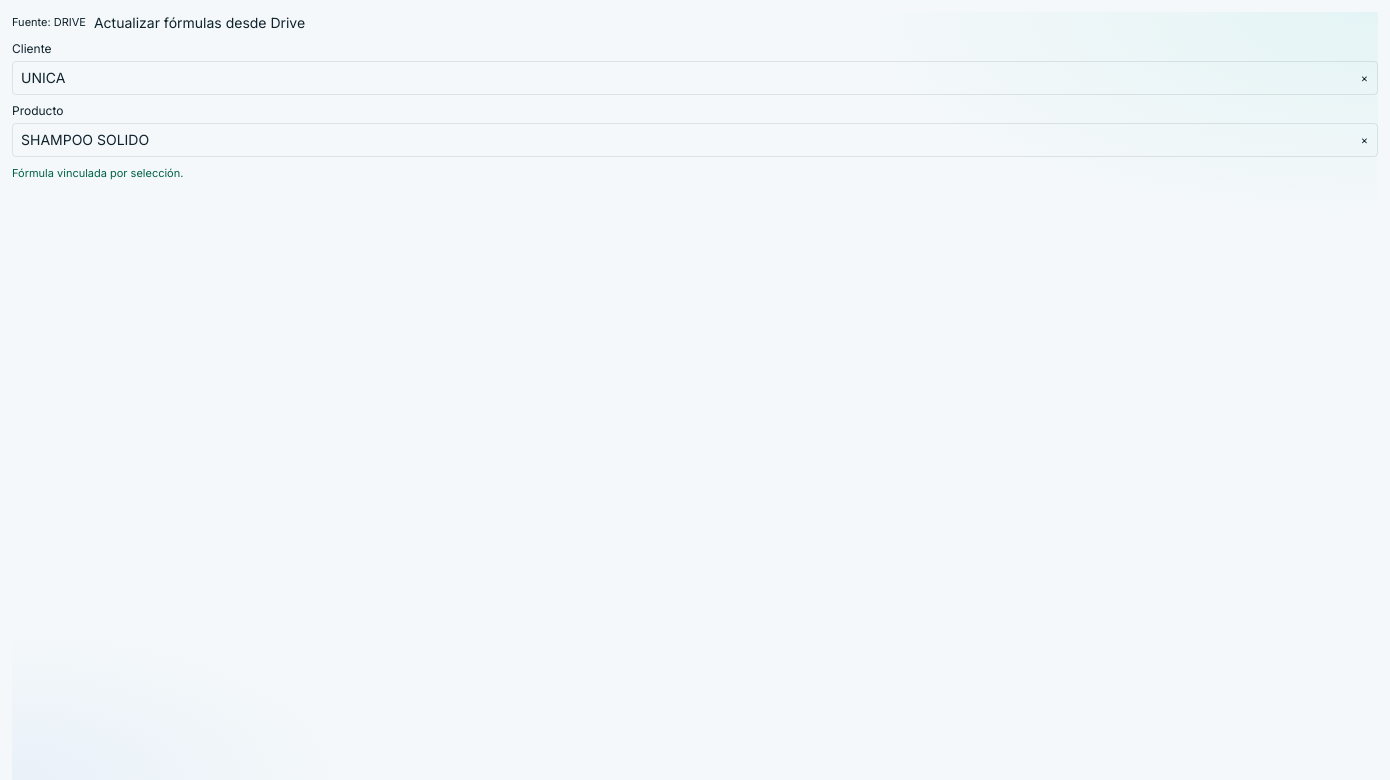
Test: FormulaClientProductPickers query vs selected › cambiar cliente seleccionado limpia producto una vez
Check: the dropdown with test id "oe-product-combobox-input" holds "SHAMPOO SOLIDO", box [12, 123, 1378, 157]
Replace the text in the dropdown with test id "oe-client-combobox-input" with "a": (695, 78) [12, 61, 1378, 95]
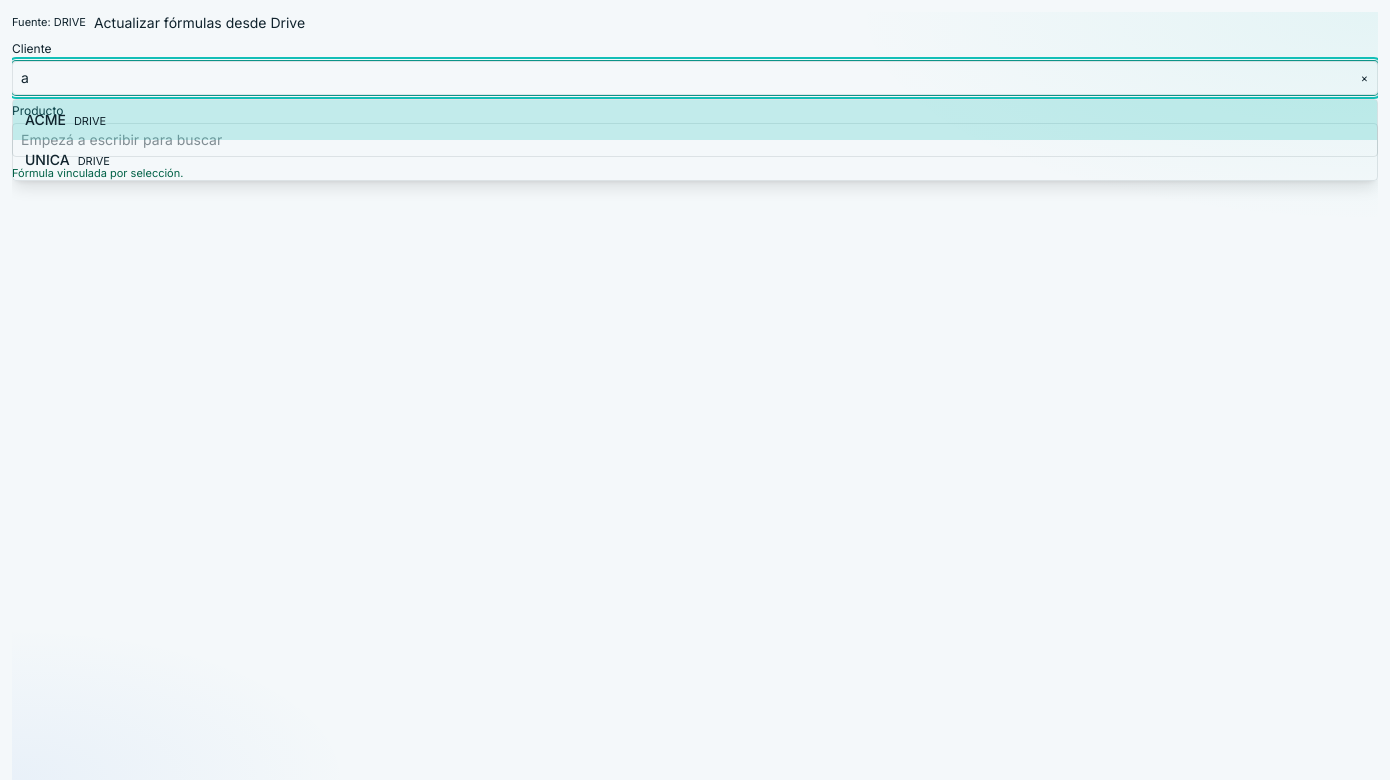
Check: the text "ACME" is shown
Click the text "ACME": click(45, 120) [25, 111, 66, 128]
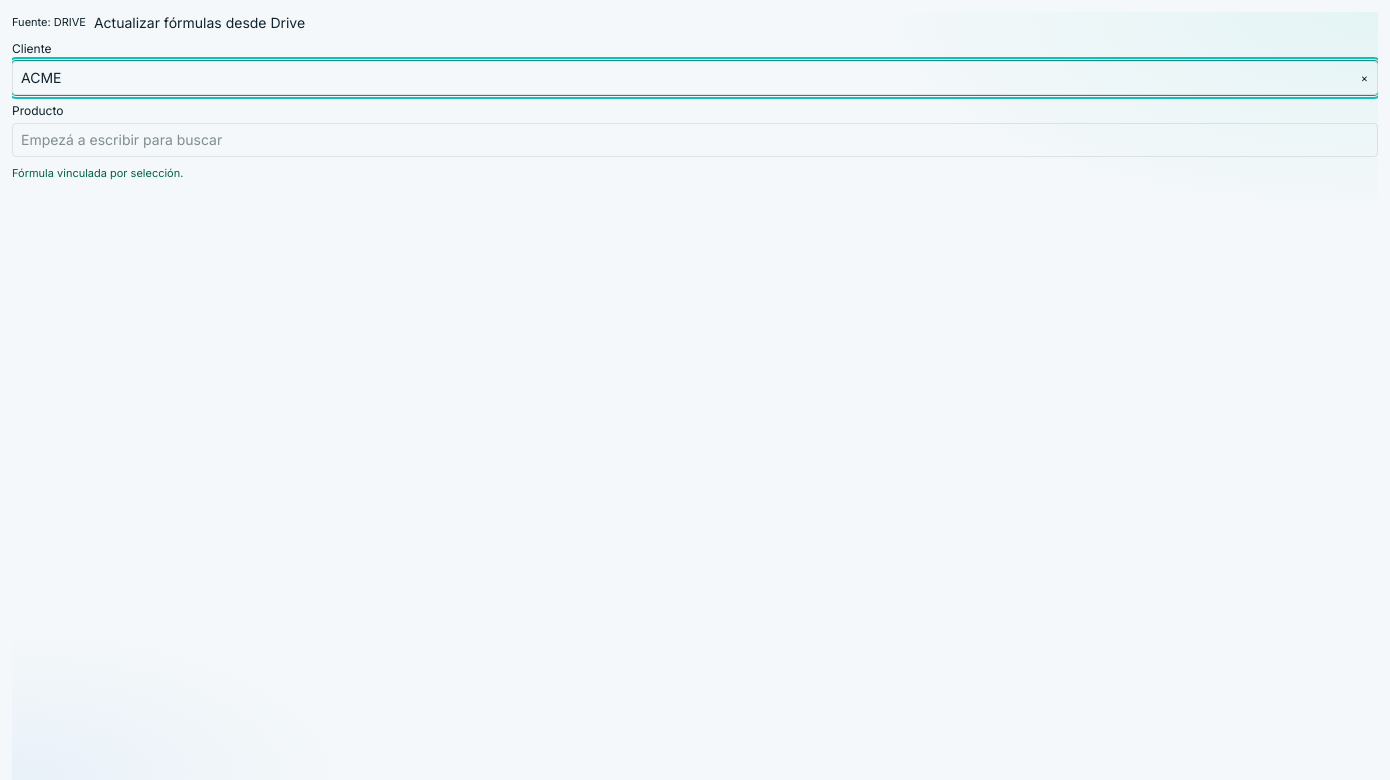
Check: the dropdown with test id "oe-product-combobox-input" is empty, box [12, 123, 1378, 157]
Check: the dropdown with test id "oe-client-combobox-input" holds "ACME", box [12, 61, 1378, 95]
